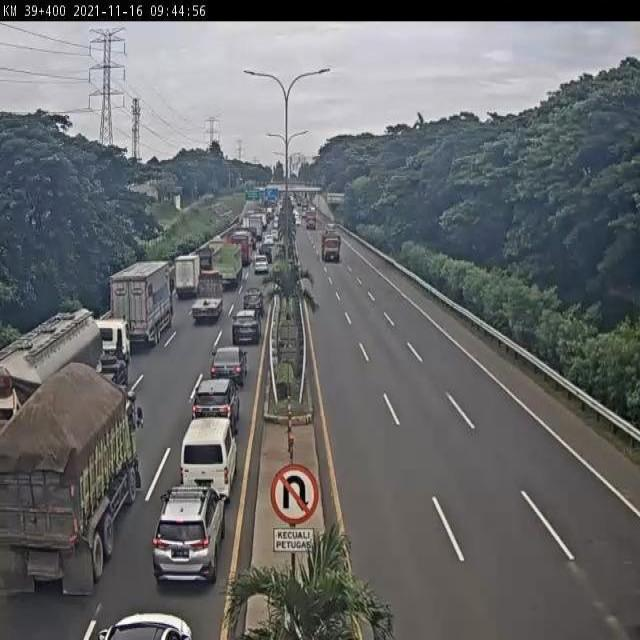Car: (151, 481, 225, 593), (97, 610, 195, 640), (191, 376, 243, 421), (209, 345, 249, 383), (231, 308, 262, 343), (241, 288, 264, 316), (253, 253, 268, 273), (264, 230, 274, 247)
Truck: (0, 361, 143, 600), (0, 309, 133, 426), (105, 260, 173, 350), (190, 270, 223, 322), (214, 242, 242, 287), (196, 236, 225, 274), (174, 253, 199, 296), (321, 232, 340, 262), (248, 212, 267, 238), (304, 212, 316, 231)
Van: (178, 416, 238, 501)
